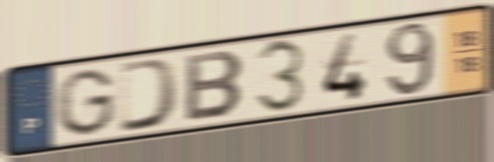3: (253, 37, 307, 116)
4: (320, 31, 369, 103)
9: (381, 20, 438, 98)
B: (183, 48, 248, 124)
D: (116, 55, 183, 135)
G: (53, 66, 117, 138)
